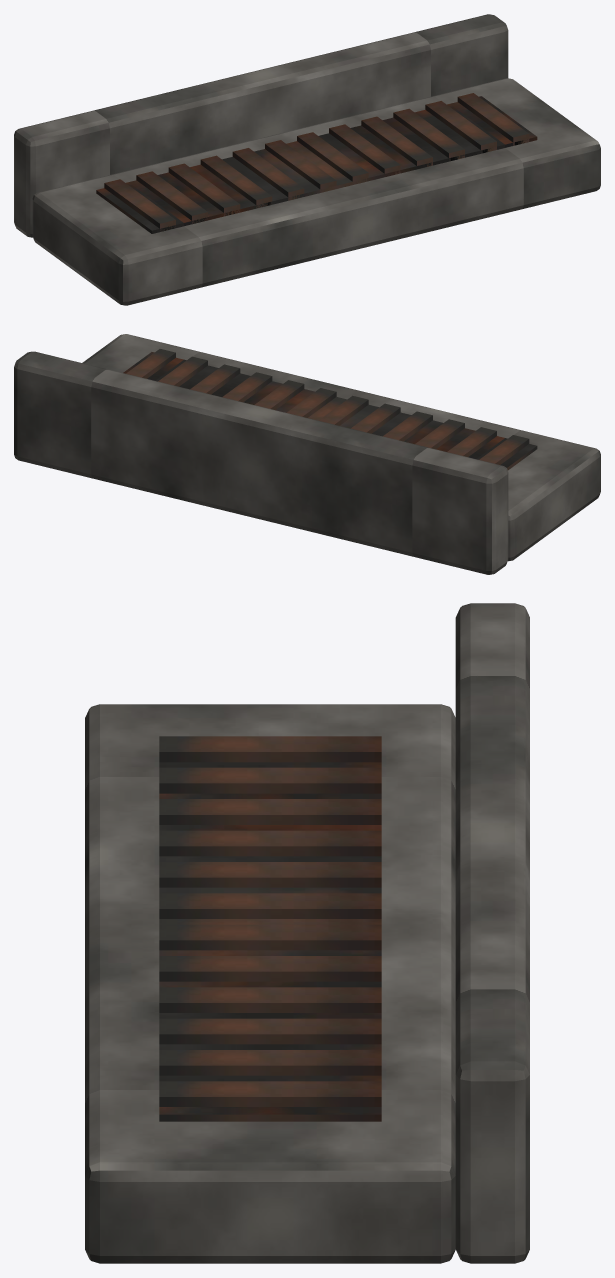
Rendered from ST14_StormDrain.glb.
3 renders of one model, top to bottom at view 1: azimuth 30°, elevation 25°; view 2: azimuth 150°, elevation 25°; view 3: azimuth 270°, elevation 25°, orthographic. The views are drawn at different scales.
Parts seen in each view (by area): view 1: ST14_StormDrain; view 2: ST14_StormDrain; view 3: ST14_StormDrain.
Part boxes in pixels (left/top/right/bottom): ST14_StormDrain: left=14, top=14, right=600, bottom=305; ST14_StormDrain: left=14, top=334, right=600, bottom=574; ST14_StormDrain: left=85, top=603, right=529, bottom=1263.
Size of the model in its own units: 1.5 by 0.3 by 0.6.
Materials: 3 (3 with a texture image).
